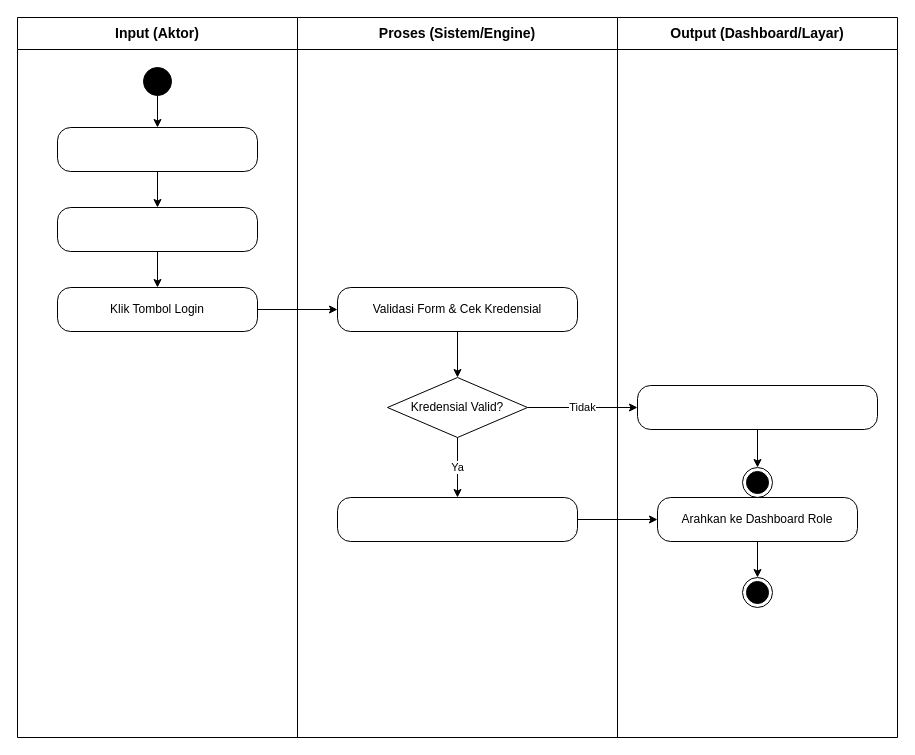
Some shapes in this 915 by 755 pixel diagram are drawn without their labels. Each missing label, with the centre of its shape:
"Buat Sesi Login (Session)" belongs at point (457, 519).
"Input Username & Password" belongs at point (157, 229).
"Membuka Halaman Login" belongs at point (157, 149).
"Tampilkan Error Username/Password Salah" belongs at point (757, 407).
